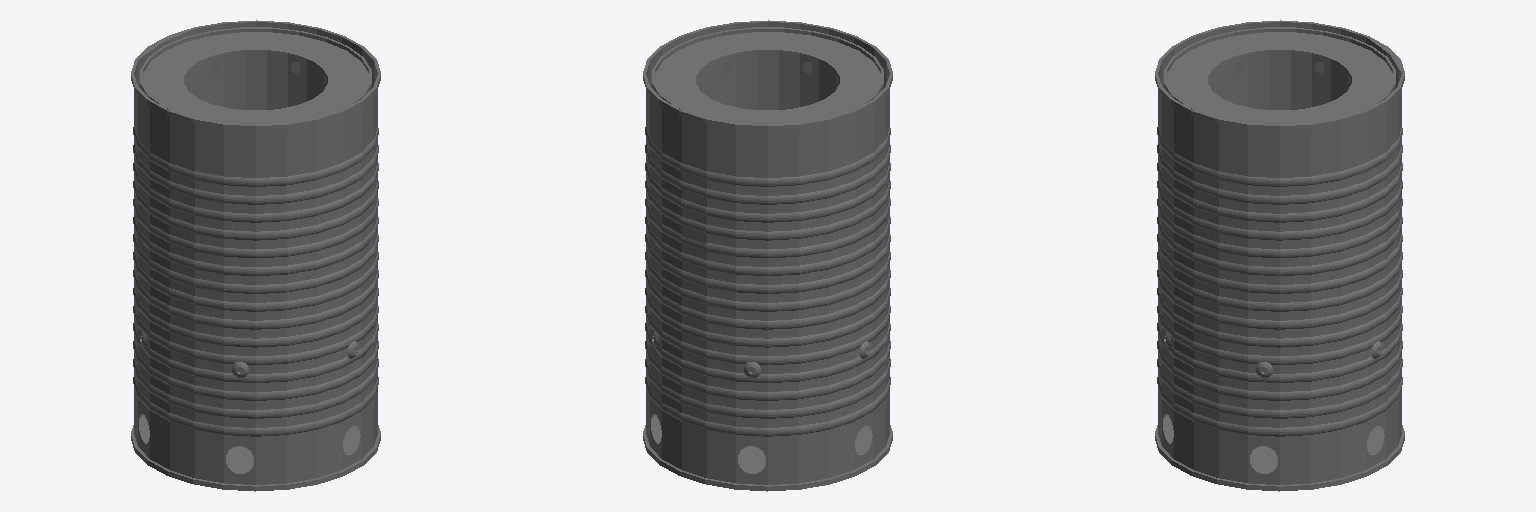
The robot description file, URDF, robot "object":
<?xml version="1.0"?>
<robot name="object">
  <link name="object">
    <visual>
      <origin xyz="0 0 0"/>
      <geometry>
        <mesh
          filename="../../mesh/oakink_virtual/can_s101.stl" />
      </geometry>
      <material name="mat">
        <color rgba="0.5 0.5 0.5 1"/>
      </material>
    </visual>

    <collision>
      <origin xyz="0 0 0"/>
      <geometry>
        <mesh
          filename="../../mesh/oakink_virtual/can_s101.stl" />
      </geometry>
    </collision>
  </link>
</robot>

--- Render facts (derived) ---
Views: 3 orthographic renders of the robot side by side, from view 1: azimuth 30°, elevation 25°; view 2: azimuth 150°, elevation 25°; view 3: azimuth 270°, elevation 25°.
Robot: object — 1 links, 0 joints (none); root link object; default pose: every joint at zero.
Visible links, largest first — view 1: object; view 2: object; view 3: object.
Boxes of the visible links, x1,y1,x2,y2 form: object: (131,20,380,491); object: (643,20,892,491); object: (1155,20,1404,491).
Bounding box of the posed robot: 0.0814 × 0.0814 × 0.131 m (x, y, z).
Meshes: 1 distinct files referenced, 1 mesh visuals loaded (1 binary STL).